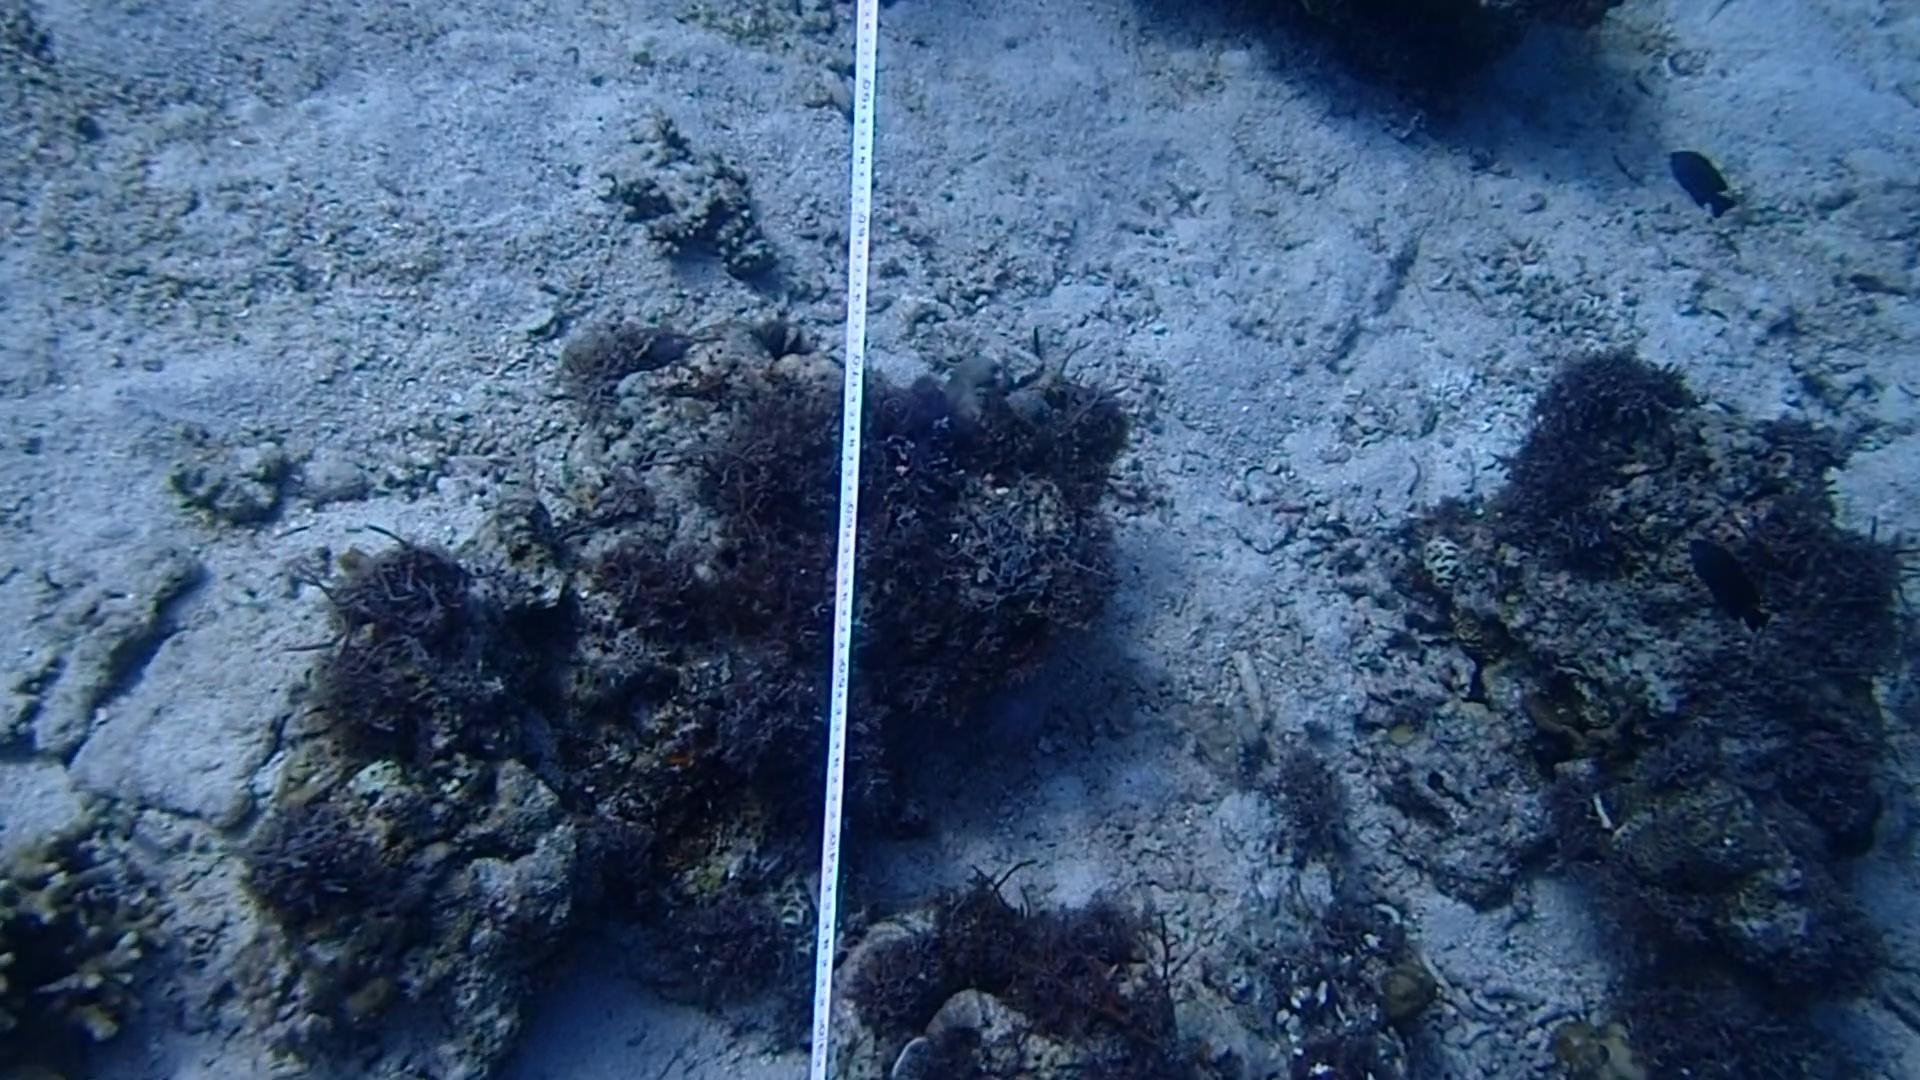Dark Fish: (1679, 524, 1778, 649), (1660, 120, 1738, 231)
